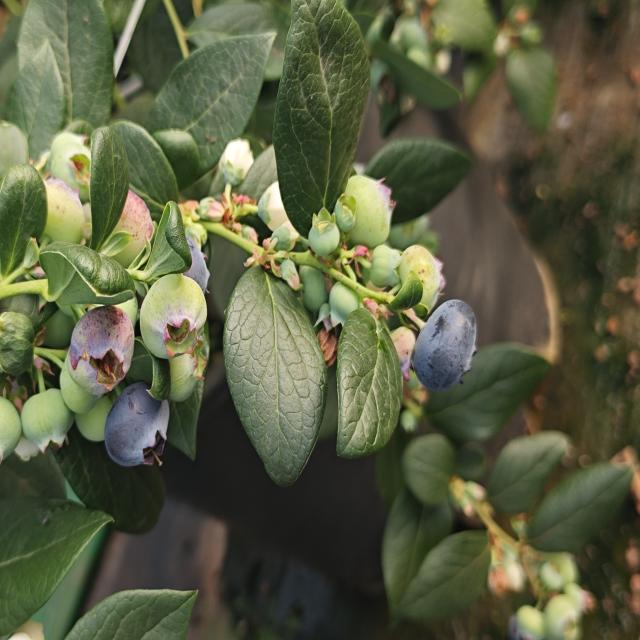ripe: (403, 293, 485, 398), (96, 376, 180, 473), (159, 219, 218, 306)
